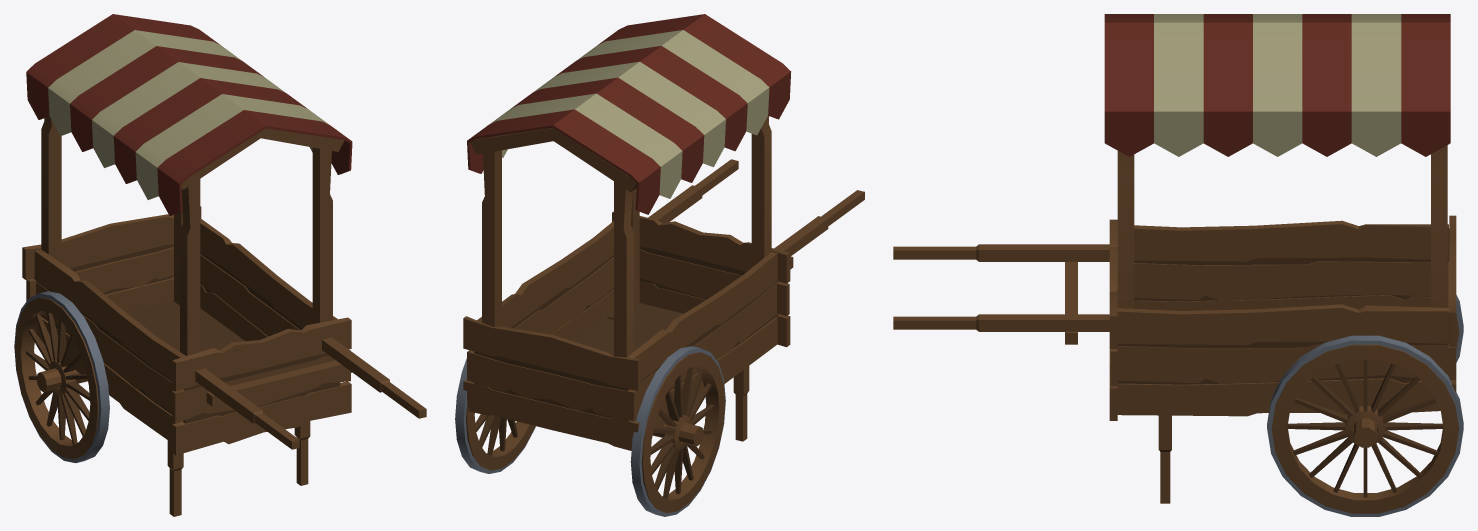
File: b_cart.glb
3 renders of one model, left to right at view 1: azimuth 30°, elevation 25°; view 2: azimuth 150°, elevation 25°; view 3: azimuth 270°, elevation 25°, orthographic. The views are drawn at different scales.
Parts seen in each view (by area): view 1: Cart; view 2: Cart; view 3: Cart.
Part boxes in pixels (left/top/right/bottom): Cart: left=14, top=14, right=426, bottom=516; Cart: left=455, top=14, right=864, bottom=516; Cart: left=893, top=14, right=1463, bottom=516.
Bounding box in the file's own units: 0.462 × 0.7961 × 0.9274.
